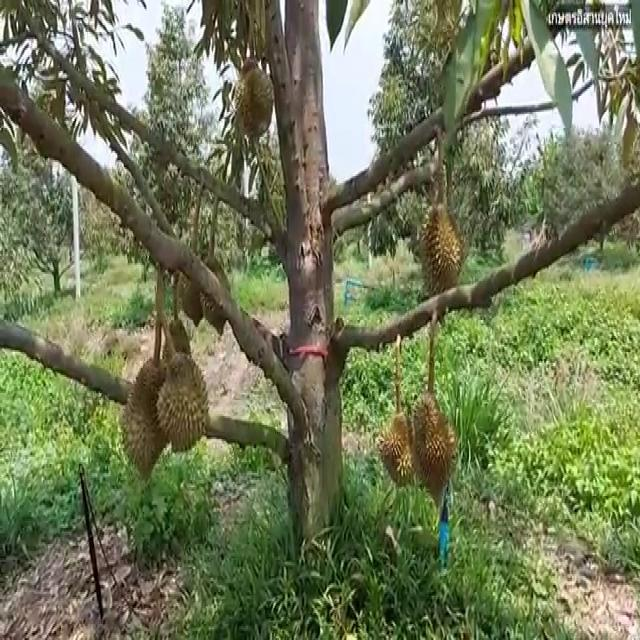durian: (119, 352, 179, 482), (154, 350, 211, 458), (410, 386, 460, 495), (413, 197, 465, 301), (229, 53, 277, 147), (198, 250, 233, 342), (160, 314, 194, 408), (379, 408, 417, 490), (176, 243, 209, 326)
